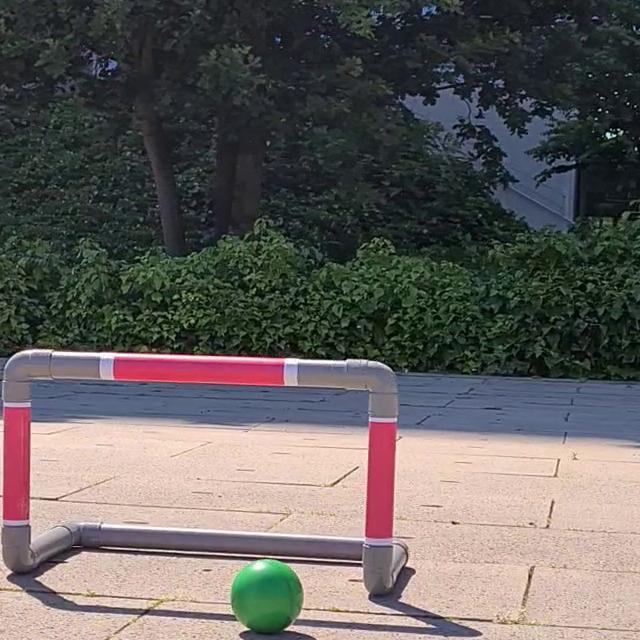ball: (227, 557, 304, 635)
